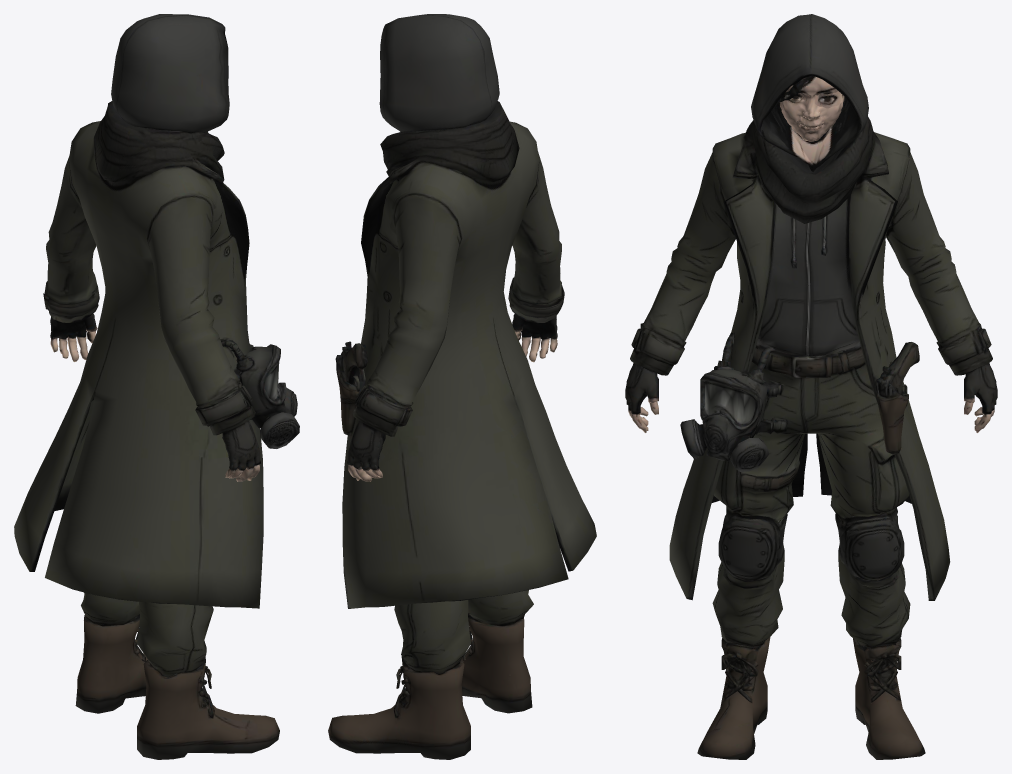
The picture shows the model from 3 angles, left to right: view 1: azimuth 30°, elevation 25°; view 2: azimuth 150°, elevation 25°; view 3: azimuth 270°, elevation 25°; orthographic projection.
Parts seen in each view (by area): view 1: tripo_node_4f263561-dc21-4e10-b3af-0f964d86ad1f; view 2: tripo_node_4f263561-dc21-4e10-b3af-0f964d86ad1f; view 3: tripo_node_4f263561-dc21-4e10-b3af-0f964d86ad1f.
Boxes of the visible parts, <box> form: tripo_node_4f263561-dc21-4e10-b3af-0f964d86ad1f: <box>14,14,299,759</box>; tripo_node_4f263561-dc21-4e10-b3af-0f964d86ad1f: <box>328,14,596,759</box>; tripo_node_4f263561-dc21-4e10-b3af-0f964d86ad1f: <box>625,14,997,759</box>.
Size of the model in its own units: 0.3379 by 0.998 by 0.4746.
1 material, 1 textured.
